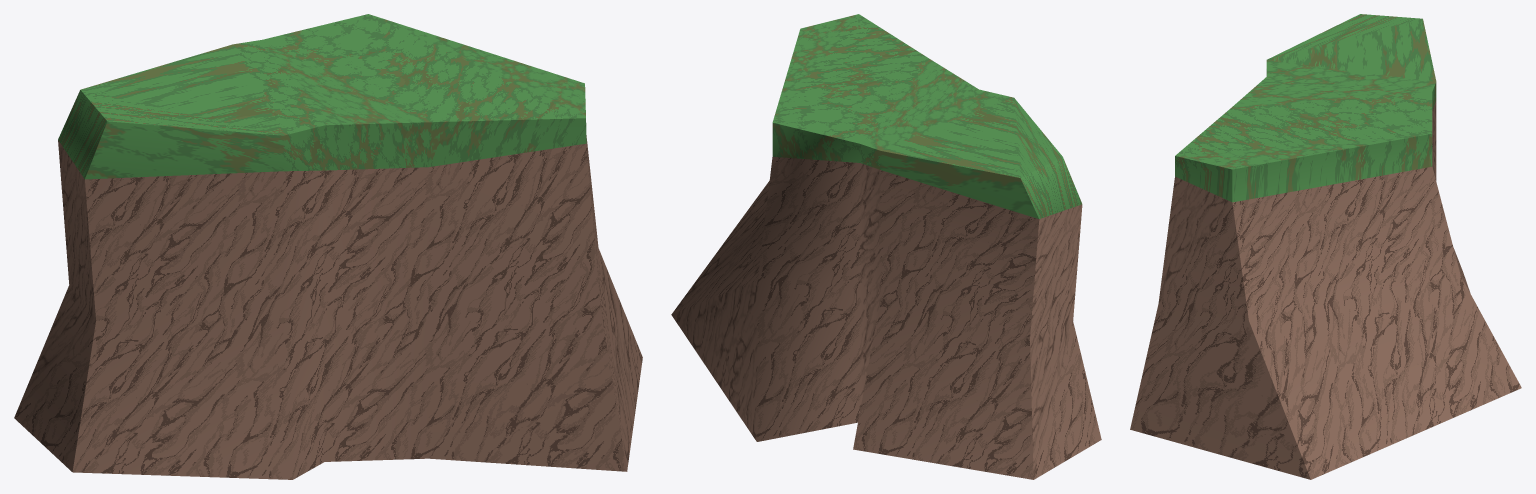
File: Earth_BlockB.fbx
3 renders of one model, left to right at view 1: azimuth 30°, elevation 25°; view 2: azimuth 150°, elevation 25°; view 3: azimuth 270°, elevation 25°, orthographic. The views are drawn at different scales.
Visible parts, largest first — view 1: Earth_BlockB; view 2: Earth_BlockB; view 3: Earth_BlockB.
Part boxes in pixels (left/top/right/bottom): Earth_BlockB: left=14, top=14, right=642, bottom=479; Earth_BlockB: left=671, top=14, right=1101, bottom=479; Earth_BlockB: left=1130, top=14, right=1521, bottom=479.
Size of the model in its own units: 2183 by 1288 by 1699.
